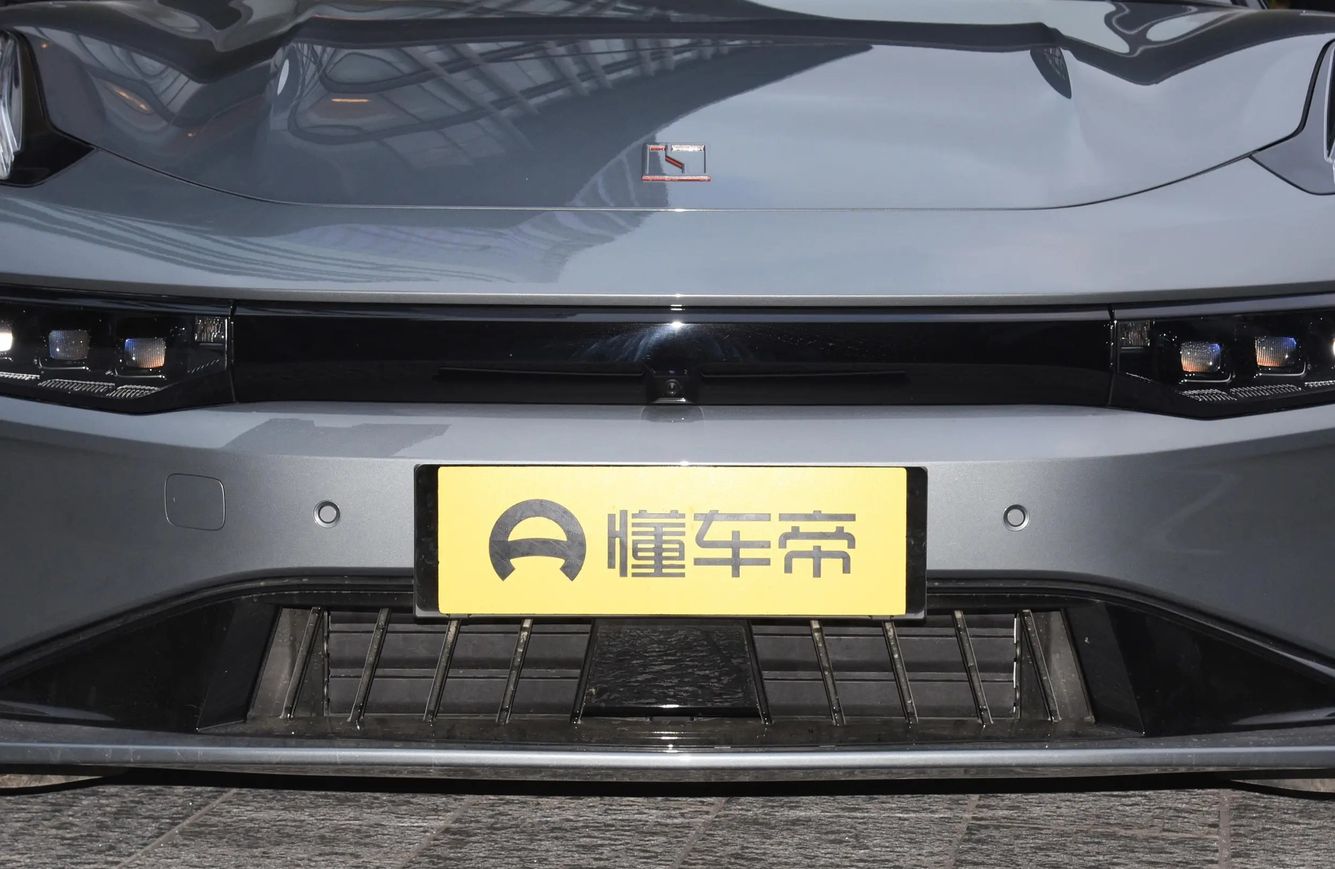ZEEKR: (643, 142, 709, 180)
